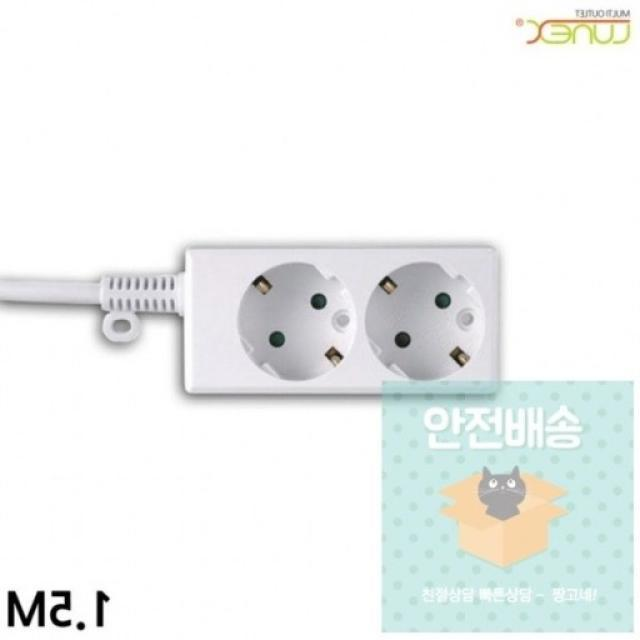typeb: (160, 230, 497, 417)
